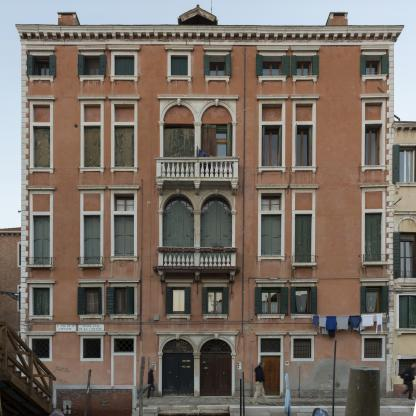Balcony: (155, 157, 240, 181), (157, 247, 238, 270)
Building Outline: (15, 4, 404, 397)
Cornice: (157, 95, 239, 99), (155, 331, 239, 334), (107, 45, 141, 51), (256, 46, 289, 52), (359, 93, 390, 99), (289, 94, 320, 100), (76, 45, 107, 51), (360, 45, 390, 51), (290, 46, 320, 52), (107, 95, 141, 100), (256, 95, 289, 100), (25, 95, 56, 100), (76, 95, 107, 100), (359, 183, 390, 188), (26, 46, 56, 51), (203, 45, 232, 50), (107, 185, 140, 189), (255, 185, 288, 189), (25, 186, 56, 190), (164, 45, 194, 49), (77, 185, 107, 189), (289, 185, 319, 189), (359, 278, 389, 282), (288, 279, 318, 283), (77, 279, 107, 283), (201, 279, 230, 283), (255, 280, 288, 283), (107, 279, 140, 282), (107, 332, 140, 335), (255, 332, 287, 335), (25, 280, 56, 283), (24, 332, 55, 335), (76, 332, 107, 335), (359, 331, 390, 334), (164, 279, 194, 282), (288, 332, 318, 335)
Deco: (114, 104, 135, 121), (262, 104, 282, 121), (296, 104, 313, 122), (33, 104, 50, 122), (365, 102, 382, 120), (84, 104, 101, 122), (33, 194, 50, 212), (84, 194, 101, 211), (296, 193, 313, 210), (365, 192, 382, 209), (157, 181, 165, 195), (231, 181, 238, 195), (194, 181, 201, 195), (215, 99, 219, 106), (177, 99, 181, 106), (176, 189, 180, 195), (215, 189, 219, 195), (176, 334, 180, 340), (214, 334, 218, 340)
Door: (200, 353, 232, 397), (162, 353, 194, 397), (163, 138, 195, 177), (201, 138, 233, 177), (261, 356, 280, 396)
Facade: (16, 4, 405, 397)
Floor: (21, 88, 394, 180), (21, 181, 394, 273), (21, 273, 394, 331)
Floor Slab: (21, 91, 394, 94), (21, 329, 394, 332), (21, 270, 394, 273), (21, 178, 394, 181)
Ground Floor: (21, 331, 394, 397)
Molding: (18, 32, 401, 40)
Sill: (361, 74, 388, 83), (110, 75, 138, 83), (79, 75, 105, 83), (362, 261, 388, 269), (292, 75, 318, 83), (258, 166, 287, 173), (258, 76, 287, 83), (167, 75, 192, 83), (110, 167, 138, 174), (28, 76, 54, 83), (79, 167, 105, 174), (291, 166, 317, 173), (27, 264, 53, 271), (78, 264, 104, 271), (361, 165, 387, 172), (205, 76, 230, 83), (166, 314, 191, 321), (257, 256, 286, 262), (257, 314, 286, 320), (109, 315, 138, 321), (292, 263, 316, 270), (110, 256, 138, 262), (27, 315, 54, 321), (28, 168, 54, 174), (79, 315, 105, 321), (203, 315, 228, 321), (290, 315, 316, 320)
Top Floor: (21, 40, 394, 94)
Window: (200, 193, 232, 266), (162, 193, 194, 266), (261, 214, 281, 256), (295, 214, 312, 263), (33, 216, 50, 265), (84, 215, 101, 264), (115, 126, 135, 167), (262, 125, 282, 166), (114, 215, 134, 256), (365, 214, 381, 261), (33, 126, 50, 167), (84, 126, 101, 167), (296, 125, 313, 166), (365, 124, 382, 165), (163, 104, 195, 124), (201, 104, 232, 124), (115, 288, 134, 315), (262, 287, 280, 315), (295, 287, 312, 314), (200, 339, 232, 353), (162, 339, 194, 353), (85, 288, 101, 315), (262, 56, 283, 76), (208, 287, 223, 315), (34, 288, 49, 315), (171, 287, 186, 314), (115, 55, 135, 75), (366, 287, 380, 314), (83, 338, 101, 358), (365, 55, 383, 75), (209, 55, 226, 76), (261, 193, 282, 210), (32, 339, 50, 358), (171, 56, 188, 76), (114, 194, 134, 211), (365, 338, 382, 358), (33, 56, 50, 75), (83, 56, 100, 75), (294, 339, 311, 358), (297, 56, 313, 76), (114, 339, 134, 353), (261, 339, 280, 353), (163, 132, 195, 139), (201, 132, 233, 139)
